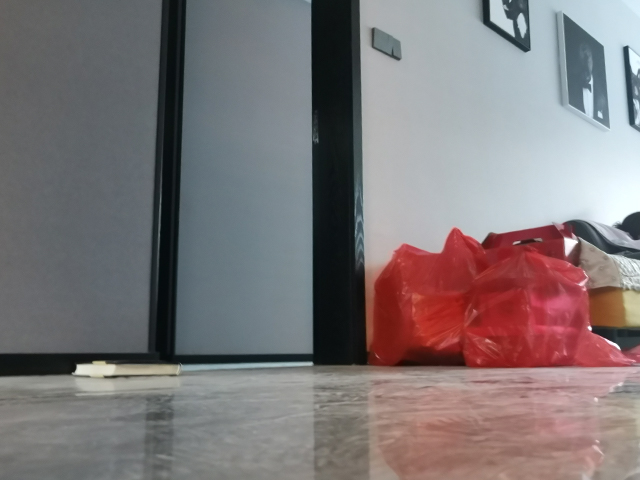book: (69, 360, 182, 381)
sofa: (475, 214, 640, 353)
